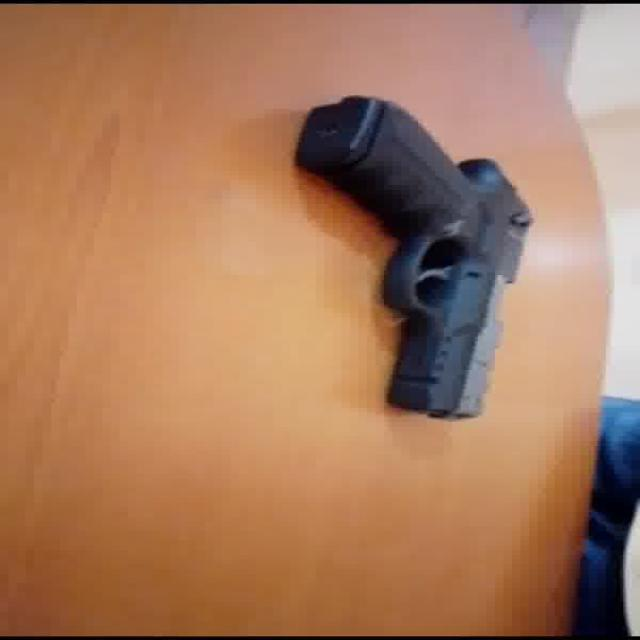weapon: (293, 93, 534, 420)
